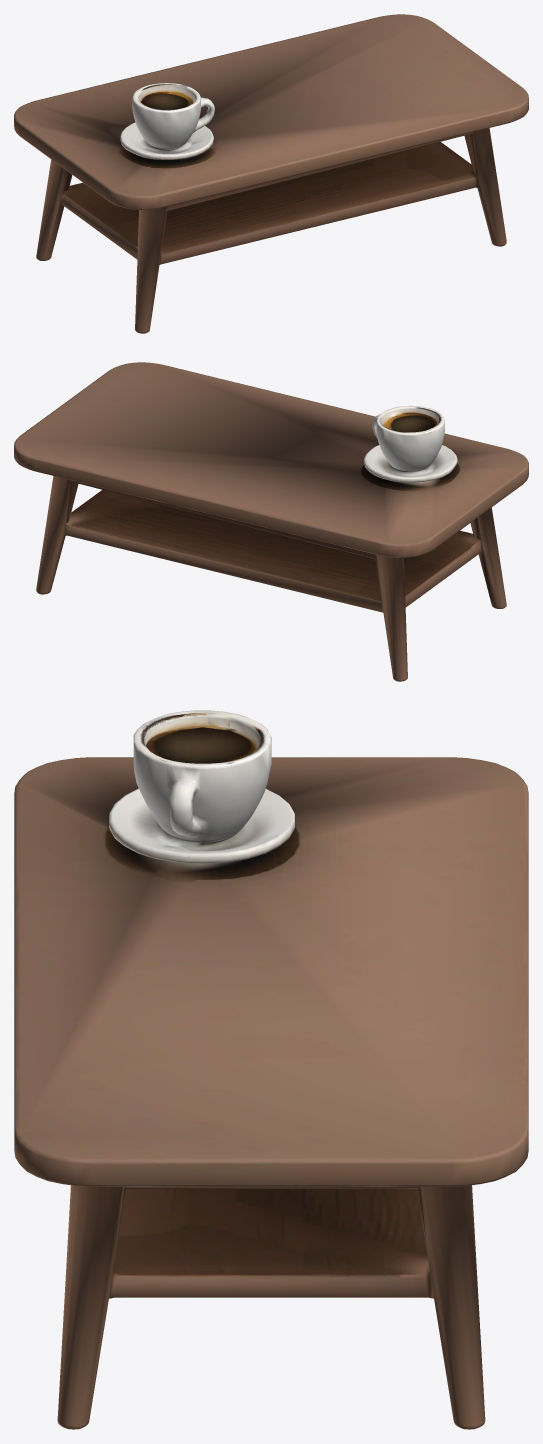
The model's file is coffee_table_realistic_style_48a93796_v2.glb.
3 views of the same model, one above another, from view 1: azimuth 30°, elevation 25°; view 2: azimuth 150°, elevation 25°; view 3: azimuth 270°, elevation 25° (orthographic). The views are drawn at different scales.
Visible parts, largest first — view 1: texture_pbr_20250901; view 2: texture_pbr_20250901; view 3: texture_pbr_20250901.
Boxes of the visible parts, <box> form: texture_pbr_20250901: <box>14,14,528,333</box>; texture_pbr_20250901: <box>14,362,528,681</box>; texture_pbr_20250901: <box>14,710,528,1429</box>.
Size of the model in its own units: 1.9 by 0.8594 by 1.02.
1 material, 1 textured.
